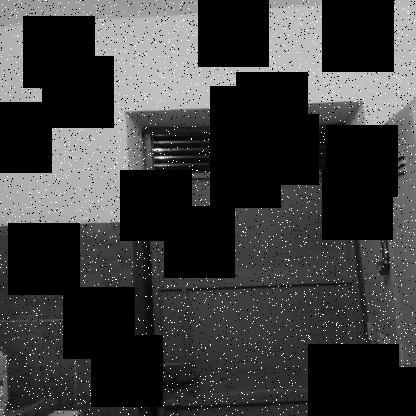Porte: (125, 101, 380, 415)
